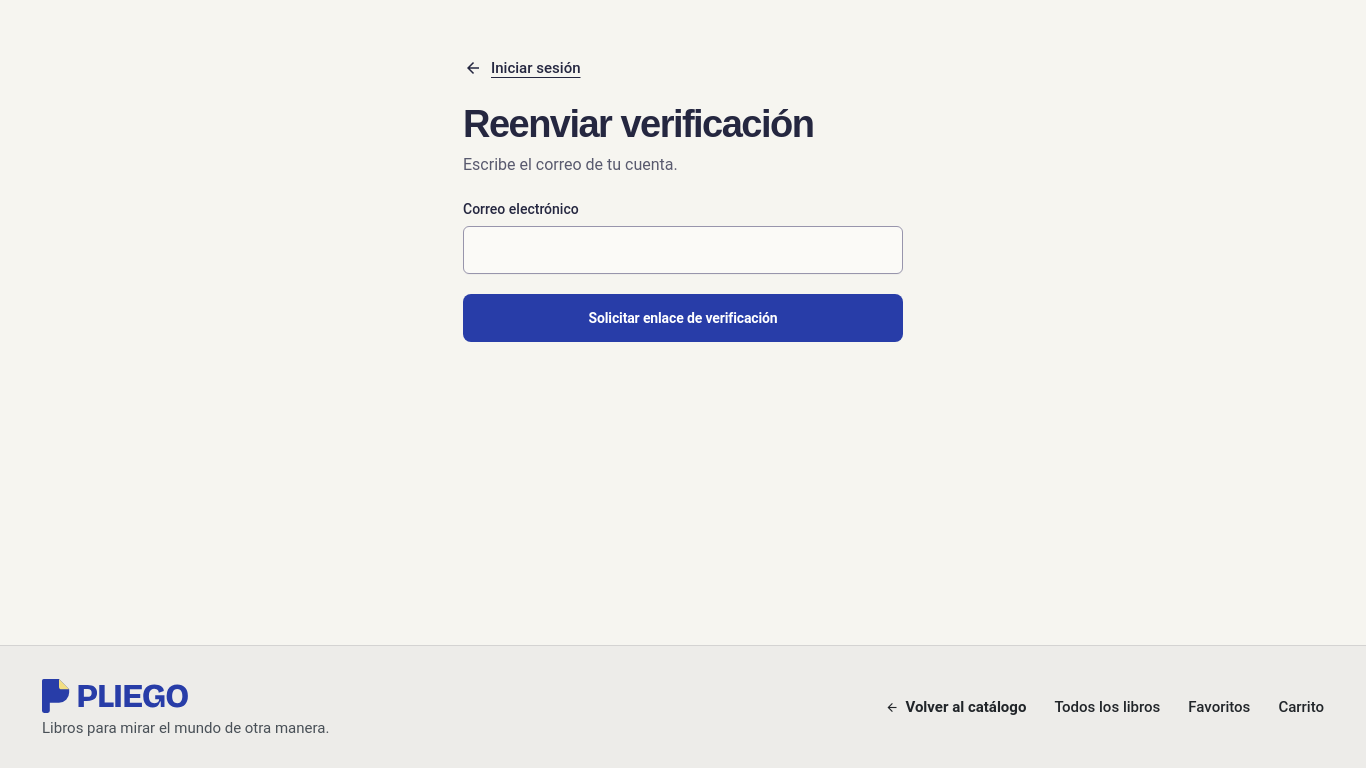
Test: customer email actions › validates then submits /reenviar-verificacion with neutral accepted feedback
This screenshot has width=1366, height=768.
Click the button "Solicitar enlace de verificación" at (683, 318), box [463,294,903,342]
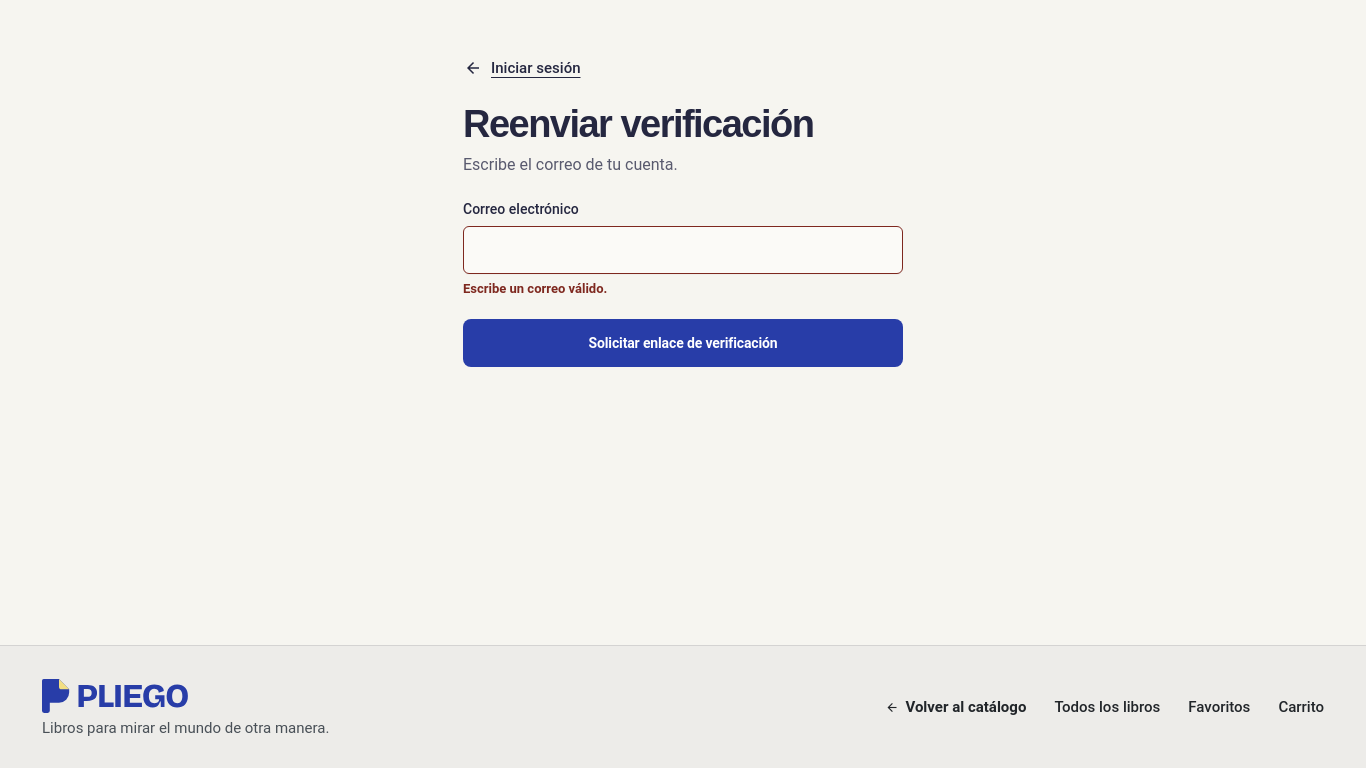
expect the message reads "Escribe un correo válido.": met, box [463,281,607,296]
Type "ANA@EXAMPLE.COM" into the field labelled "Correo electrónico" at (683, 250), box [463,226,903,274]
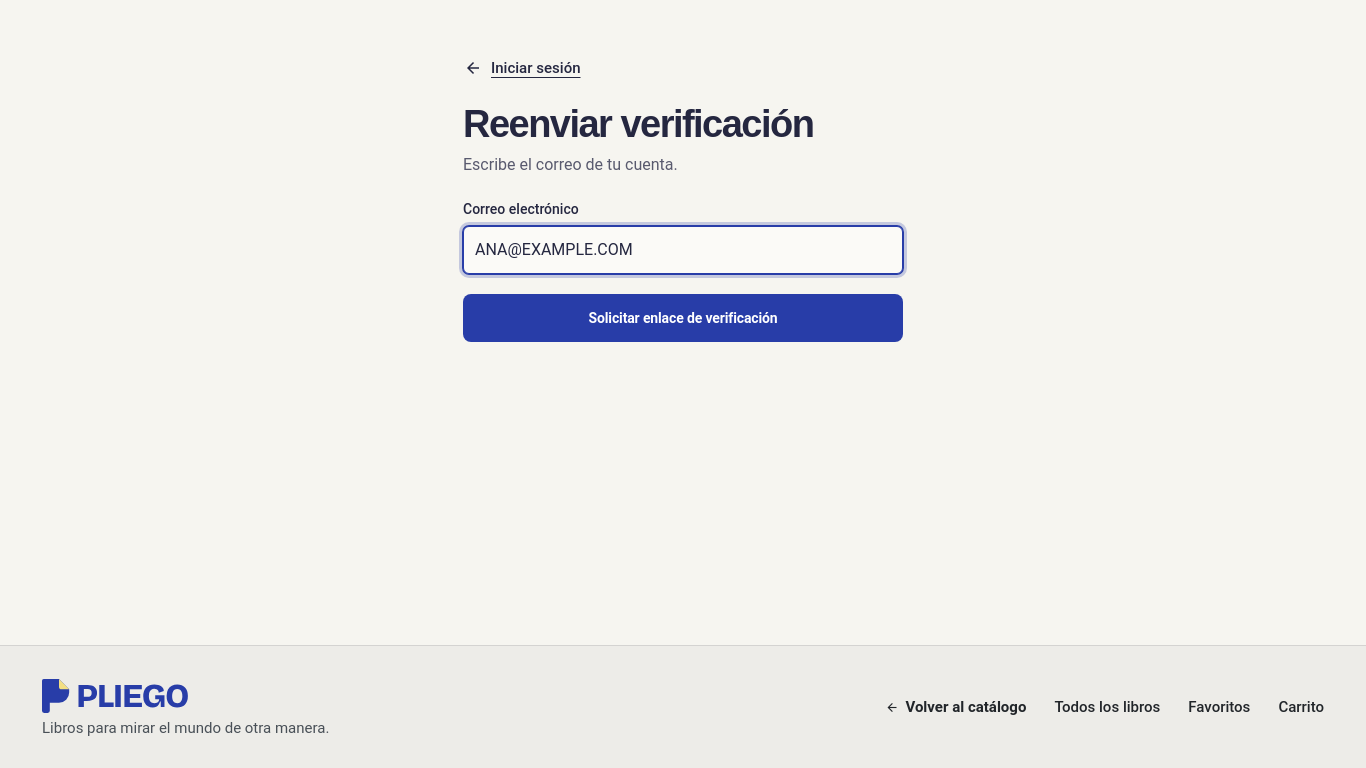
Click the button "Solicitar enlace de verificación" at (683, 318), box [463,294,903,342]
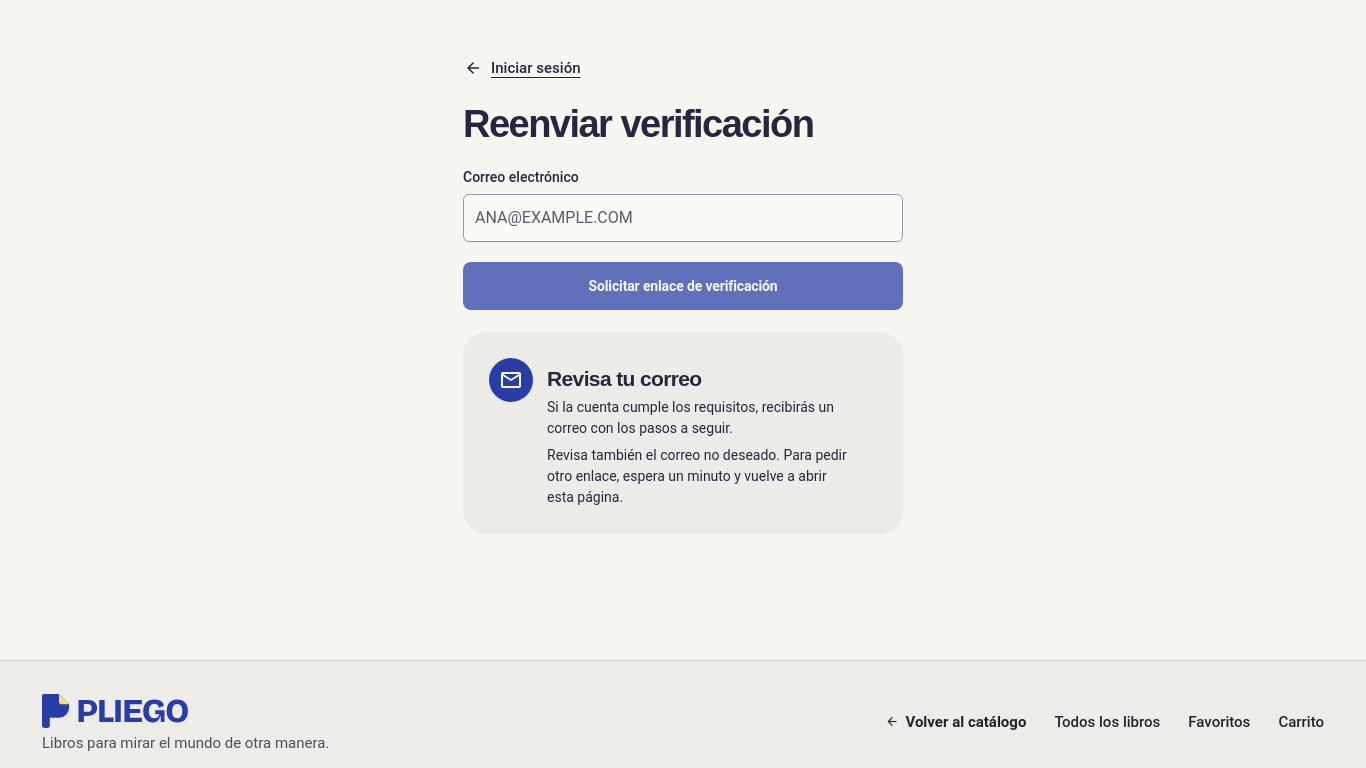
expect the message shows "Si la cuenta cumple los requisitos": met, box [547,399,834,436]
expect the button "Solicitar enlace de verificación" is disabled: met, box [463,262,903,310]
